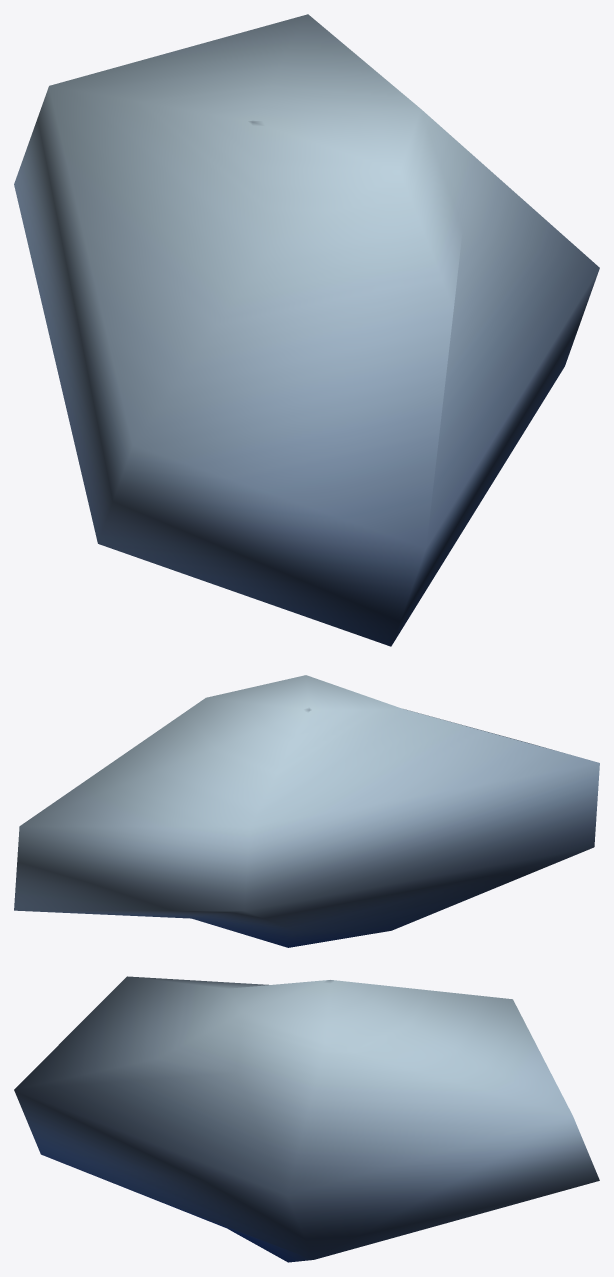
File: boulder4.fbx
3 renders of one model, top to bottom at view 1: azimuth 30°, elevation 25°; view 2: azimuth 150°, elevation 25°; view 3: azimuth 270°, elevation 25°, orthographic. The views are drawn at different scales.
Visible parts, largest first — view 1: boulder4; view 2: boulder4; view 3: boulder4.
Part boxes in pixels (<box>): boulder4: <box>14,14,599,646</box>; boulder4: <box>14,675,599,947</box>; boulder4: <box>14,976,599,1262</box>.
Bounding box in the file's own units: 0.018 × 0.011 × 0.0243.
Materials: 1 (1 with a texture image).
